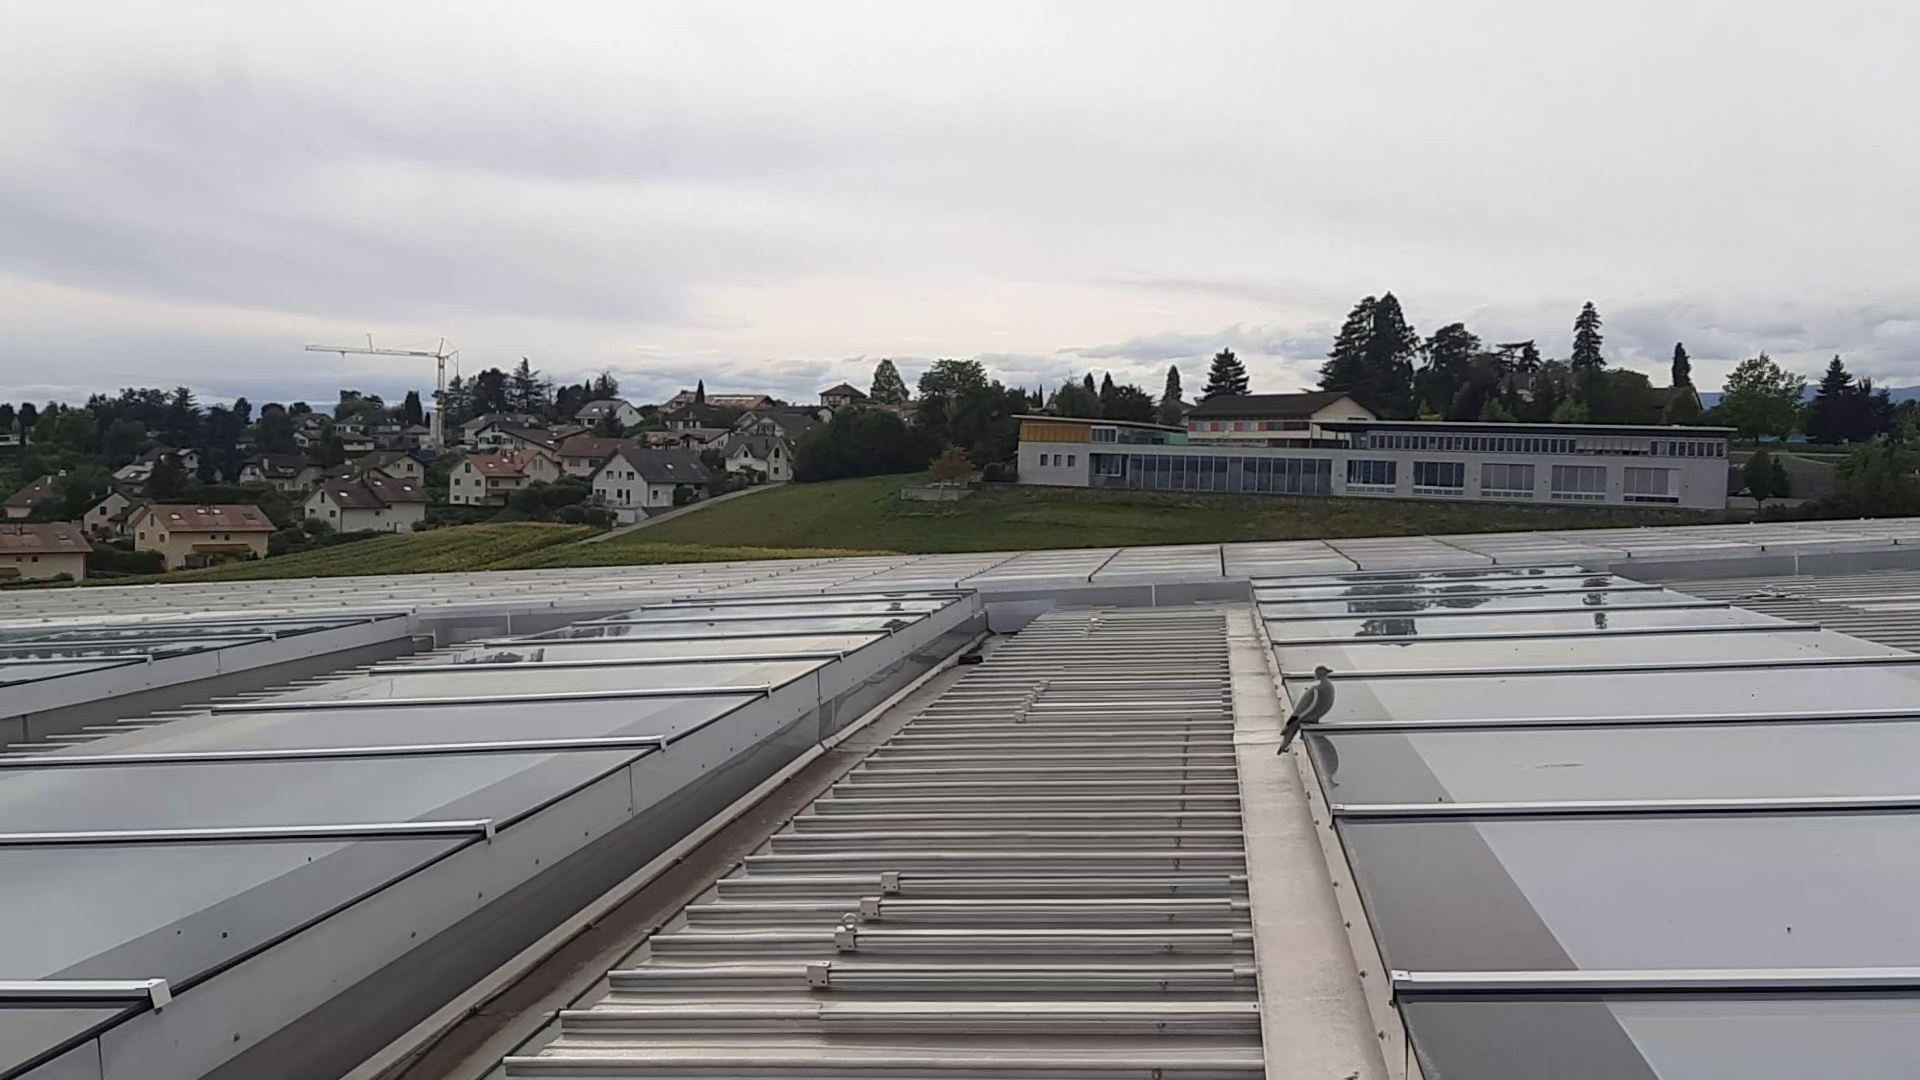Pigeon: (1273, 658, 1341, 738)
